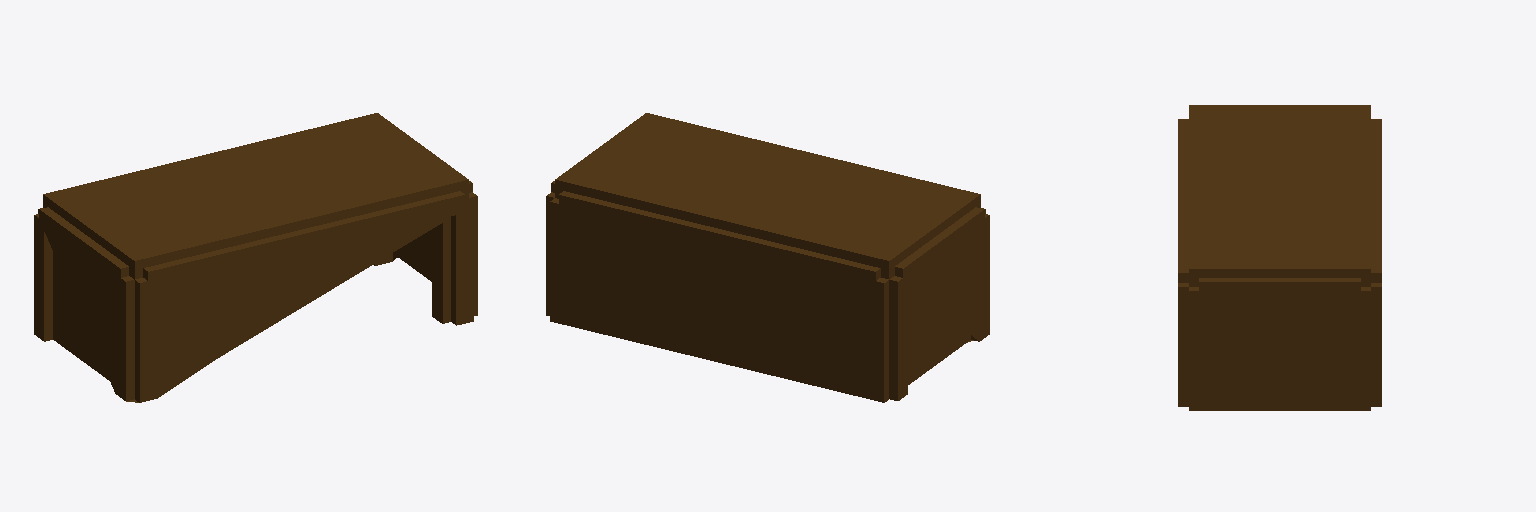
The model's file is PcANdTisch3.obj.
3 renders of one model, left to right at view 1: azimuth 30°, elevation 25°; view 2: azimuth 150°, elevation 25°; view 3: azimuth 270°, elevation 25°, orthographic.
Parts seen in each view (by area): view 1: PcTisch3; view 2: PcTisch3; view 3: PcTisch3.
Part boxes in pixels (x1,y1,x2,y2): PcTisch3: (34, 113, 477, 402); PcTisch3: (546, 113, 989, 402); PcTisch3: (1178, 105, 1381, 410).
Bounding box in the file's own units: 2.5 × 0.9375 × 1.25.